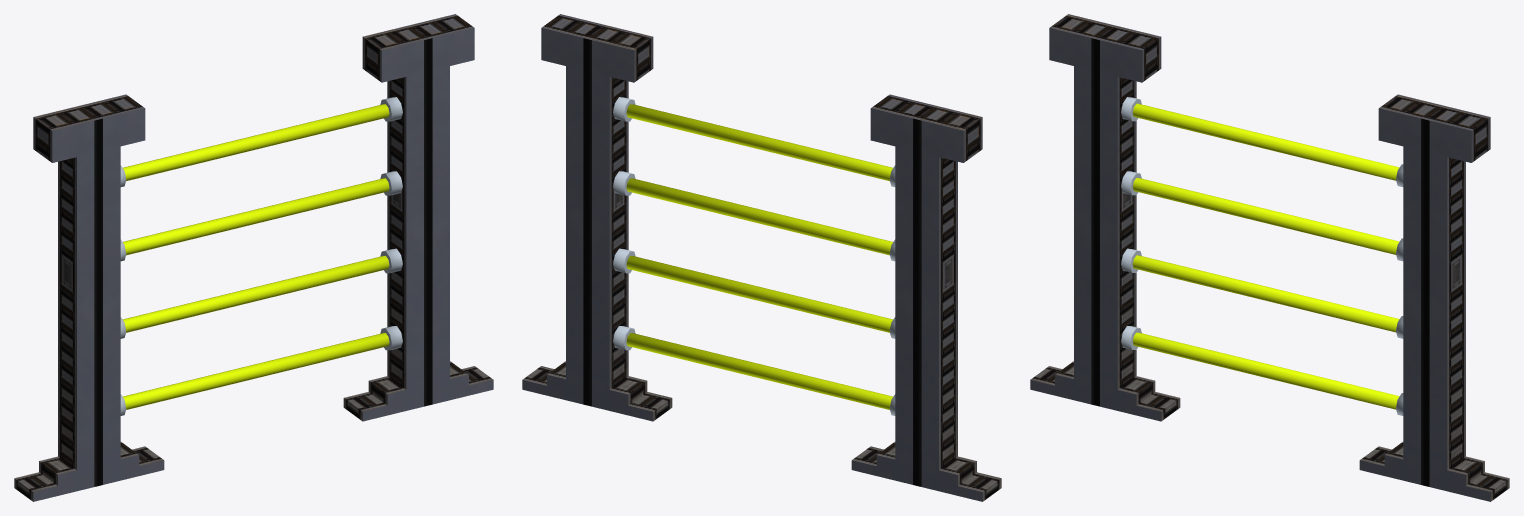
The model's file is laser_barrier.glb.
3 renders of one model, left to right at view 1: azimuth 30°, elevation 25°; view 2: azimuth 150°, elevation 25°; view 3: azimuth 330°, elevation 25°, orthographic.
Parts seen in each view (by area): view 1: Scifi_SmallLaser_Barrier; view 2: Scifi_SmallLaser_Barrier; view 3: Scifi_SmallLaser_Barrier.
Part boxes in pixels (bbox=[...]): Scifi_SmallLaser_Barrier: bbox=[14, 14, 493, 501]; Scifi_SmallLaser_Barrier: bbox=[522, 14, 1001, 501]; Scifi_SmallLaser_Barrier: bbox=[1030, 14, 1509, 501].
Bounding box in the file's own units: 1.93 × 1.47 × 0.1377.
1 material, 1 textured.
